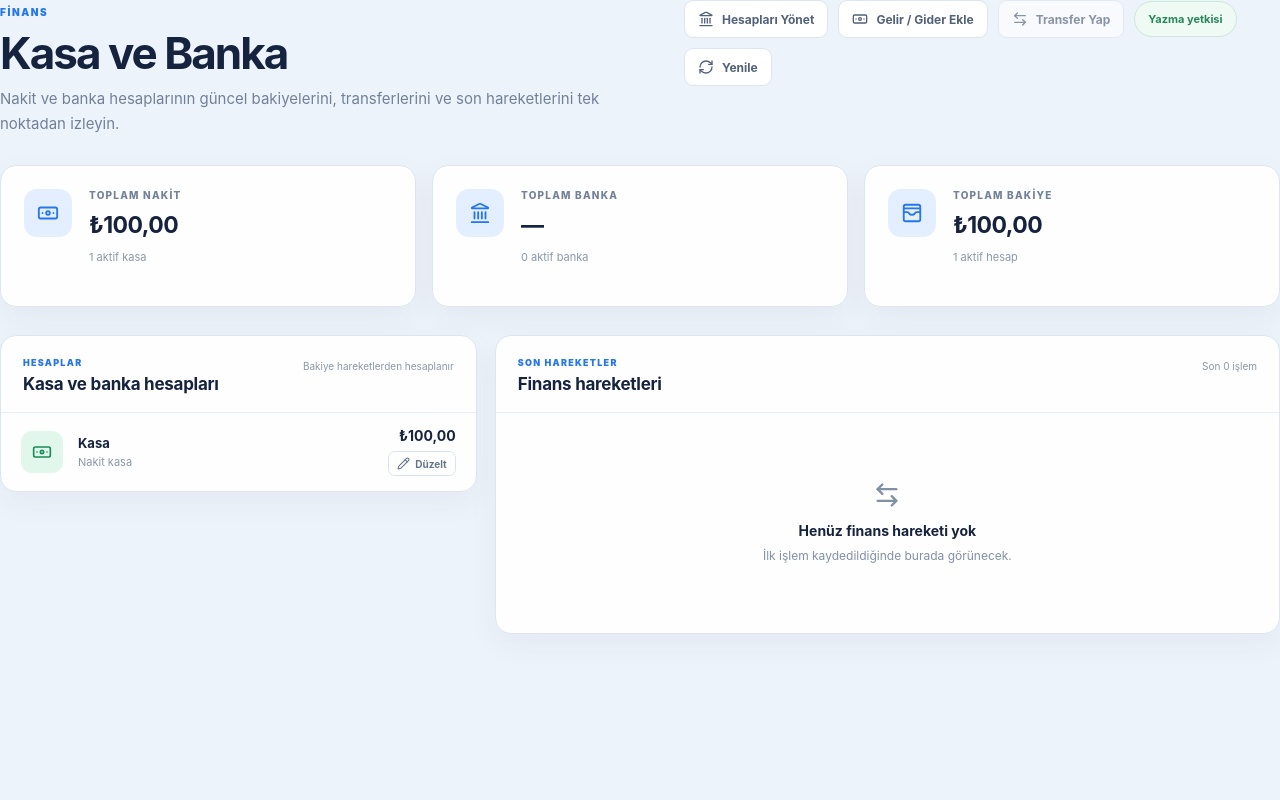
opens and closes cashflow for a finance writer
Click the button "Gelir / Gider Ekle" at [913, 19], box x1=838 y1=0 x2=988 y2=38
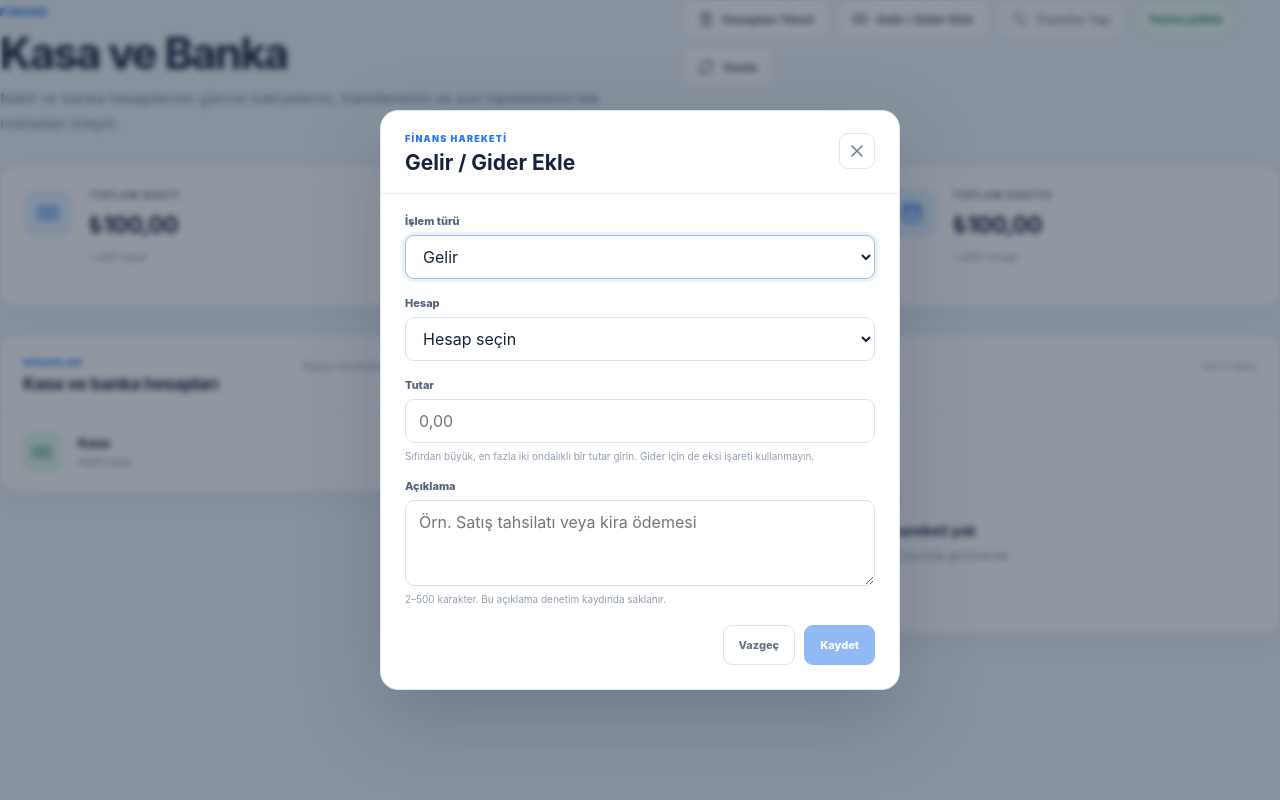
Check: the dialog "Gelir / Gider Ekle" is shown, box x1=380 y1=110 x2=900 y2=690
Click the button named "Kapat" at [857, 151], box x1=839 y1=133 x2=875 y2=169
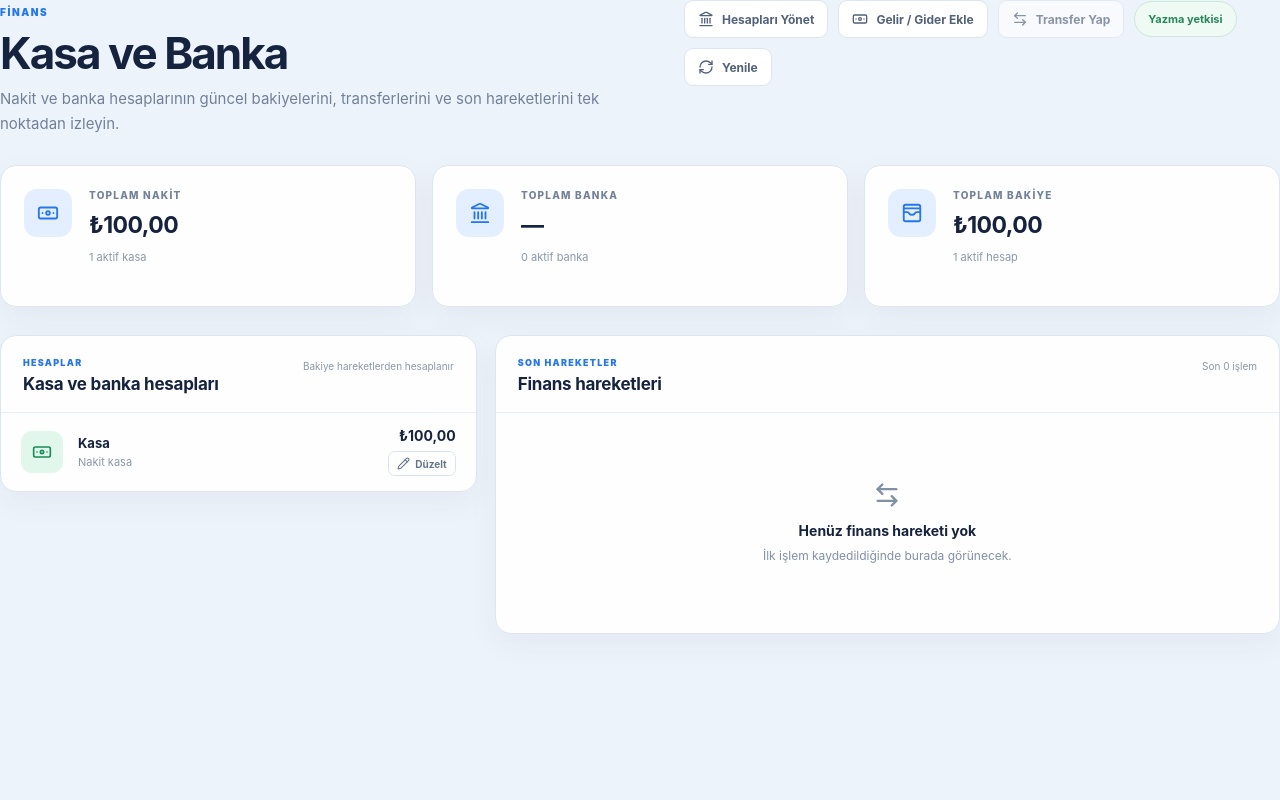
Check: the dialog is gone
